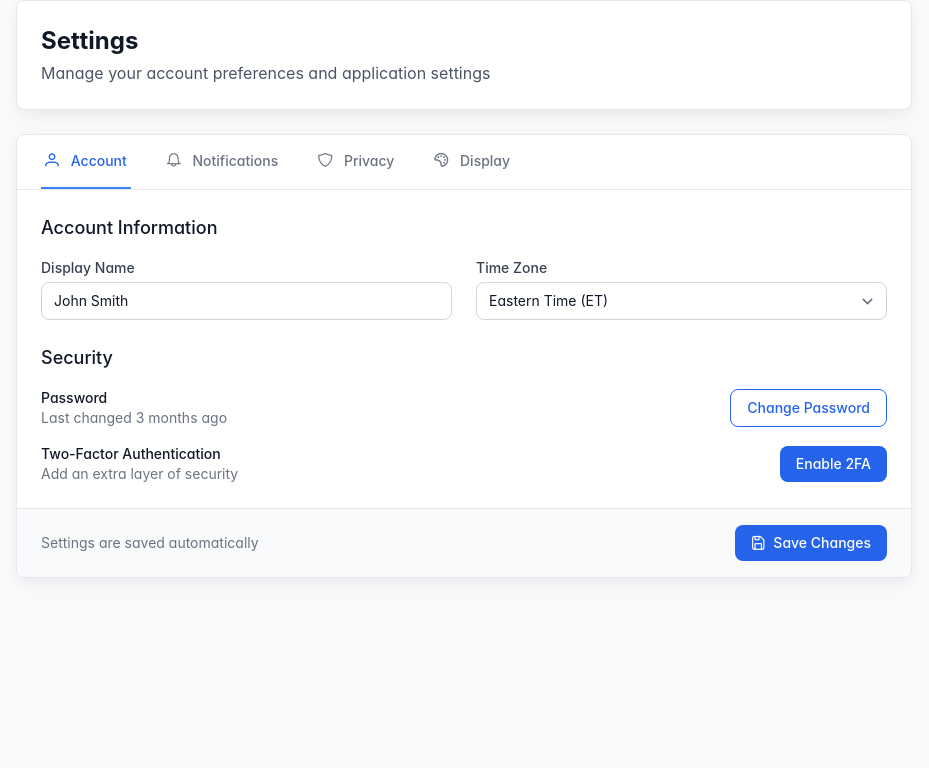
Test: SettingsView › Tab Navigation › should switch to notifications tab when clicked
This screenshot has width=929, height=768.
Click the button "Notifications" at (222, 162), box [163, 135, 282, 189]
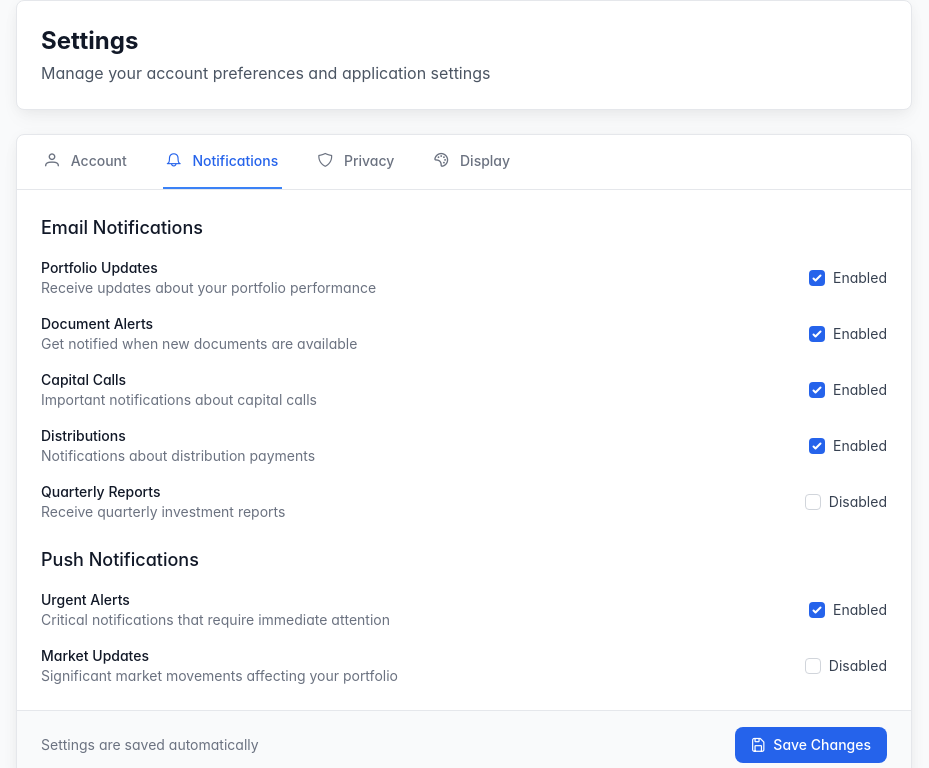
expect the text "Email Notifications" is shown: met, box [41, 217, 203, 238]
expect the text "Push Notifications" is shown: met, box [41, 549, 199, 570]
